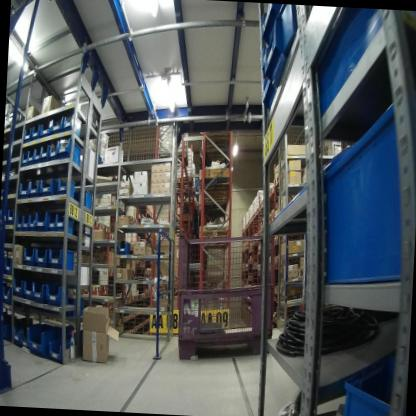pallet: (197, 224, 232, 240), (93, 217, 103, 230), (103, 222, 110, 231), (101, 283, 108, 291), (127, 214, 134, 221), (94, 284, 101, 291), (109, 233, 115, 240), (108, 300, 115, 306), (90, 283, 94, 292), (108, 266, 114, 272), (115, 299, 121, 305), (146, 206, 150, 214), (270, 210, 274, 218), (139, 212, 144, 218), (123, 296, 128, 302), (123, 316, 129, 321), (128, 313, 134, 318), (273, 236, 279, 241), (273, 261, 278, 267), (133, 218, 137, 224), (140, 238, 146, 242), (136, 293, 140, 299), (111, 202, 116, 206), (136, 235, 140, 240), (129, 295, 132, 301), (132, 295, 136, 299), (149, 210, 152, 215), (143, 216, 146, 219)
stillage: (167, 220, 280, 371)
